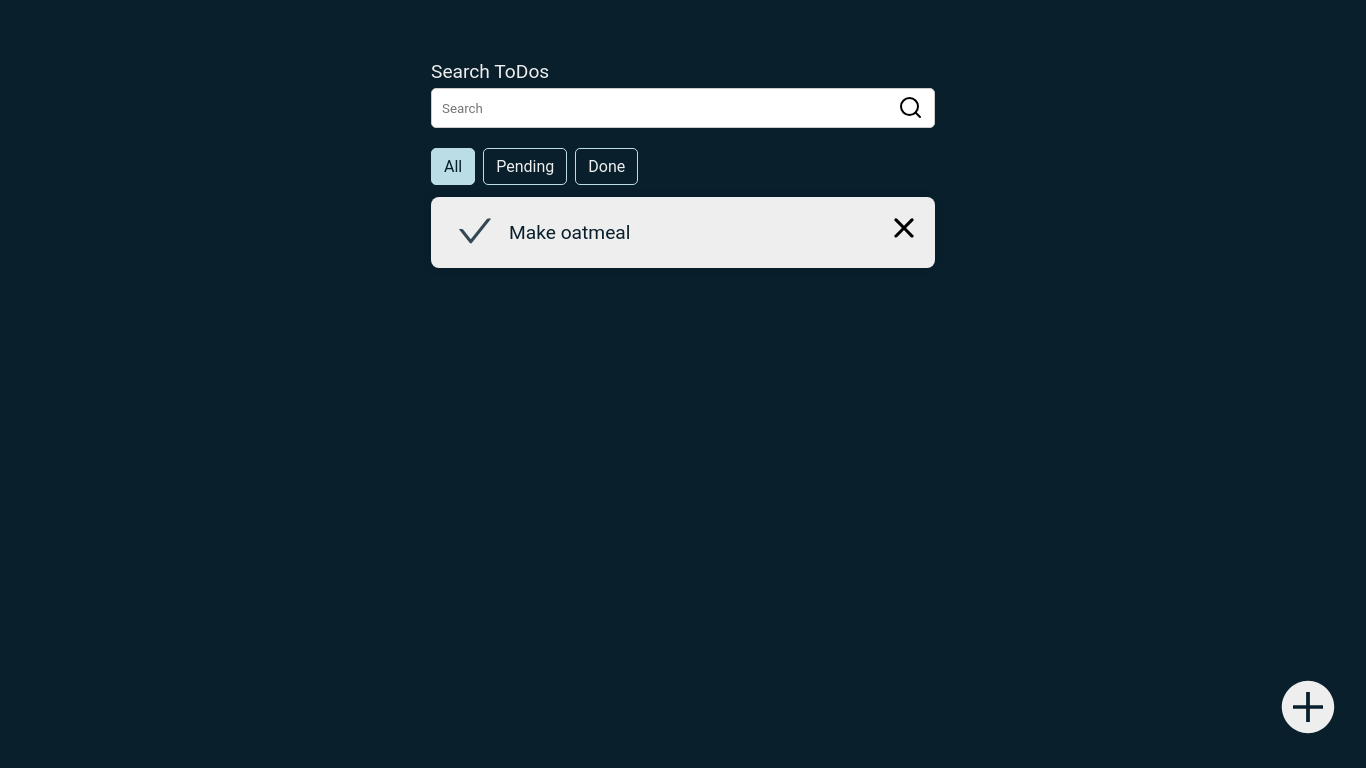
Test: App › allows a removal to be canceled or confirmed
Step 1. Click the button with class "remove-to-do-button" → (904, 230), box x1=889 y1=213 x2=919 y2=246
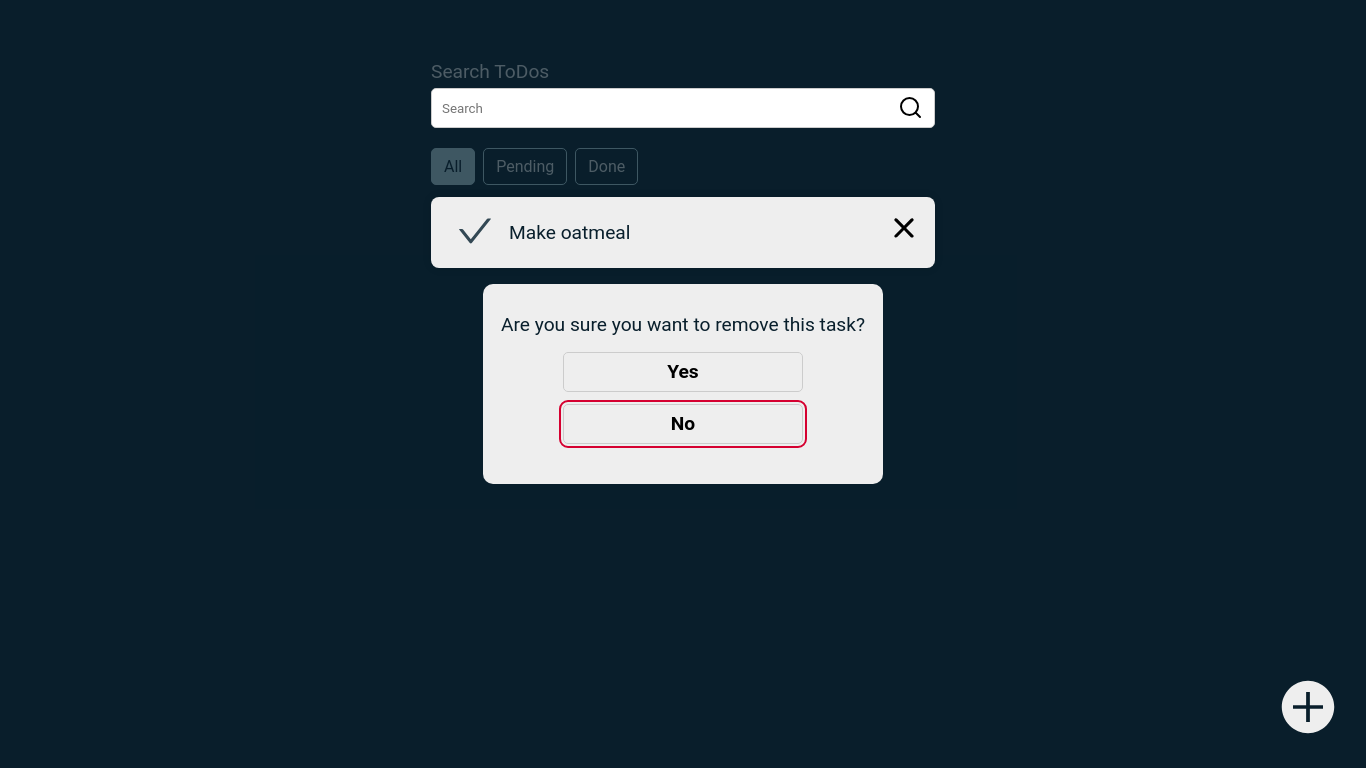
Check: the text "Are you sure you want to remove this task?" is shown, box x1=501 y1=312 x2=865 y2=336
Step 2. Click the button "No" → (683, 424), box x1=563 y1=404 x2=803 y2=444
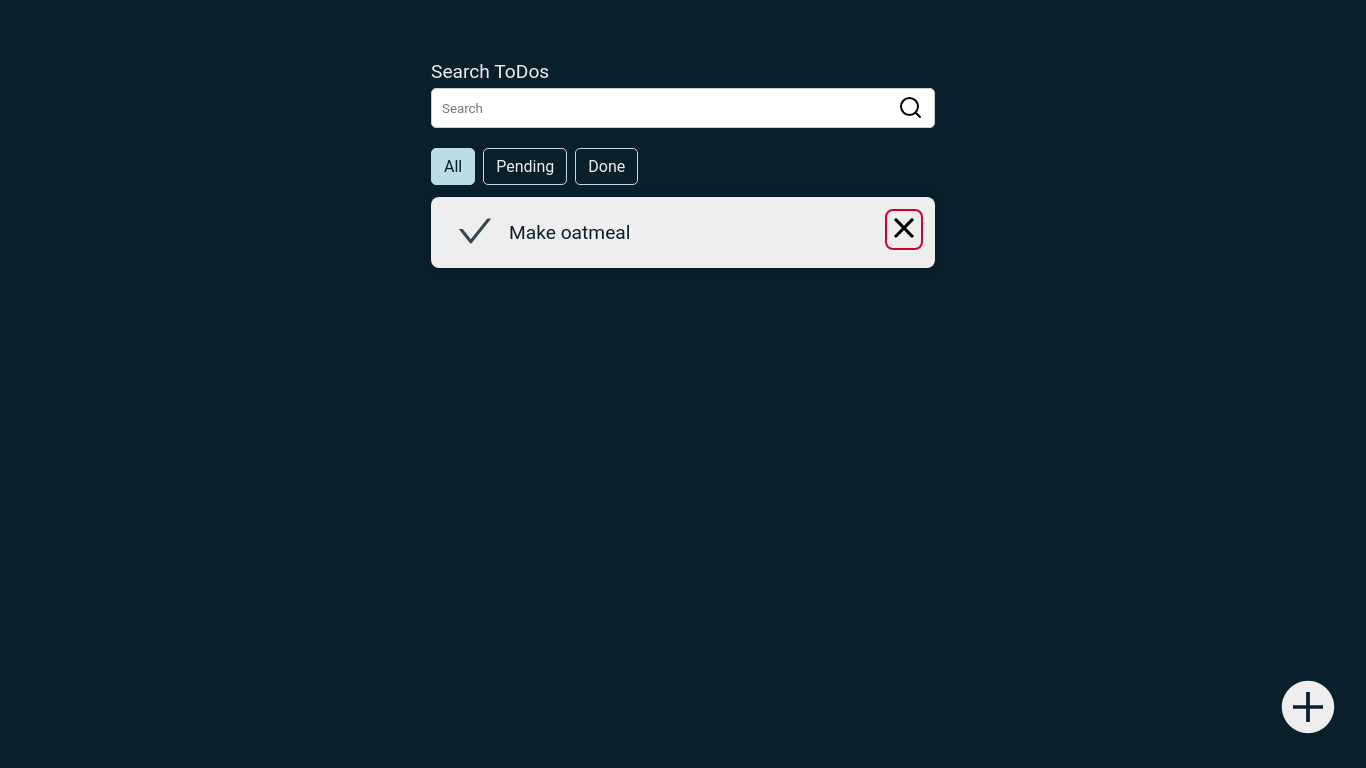
Check: the text "Make oatmeal" is shown, box x1=509 y1=221 x2=630 y2=244
Check: the text "Are you sure you want to remove this task?" is gone
Step 3. Click the button with class "remove-to-do-button" → (904, 230), box x1=889 y1=213 x2=919 y2=246
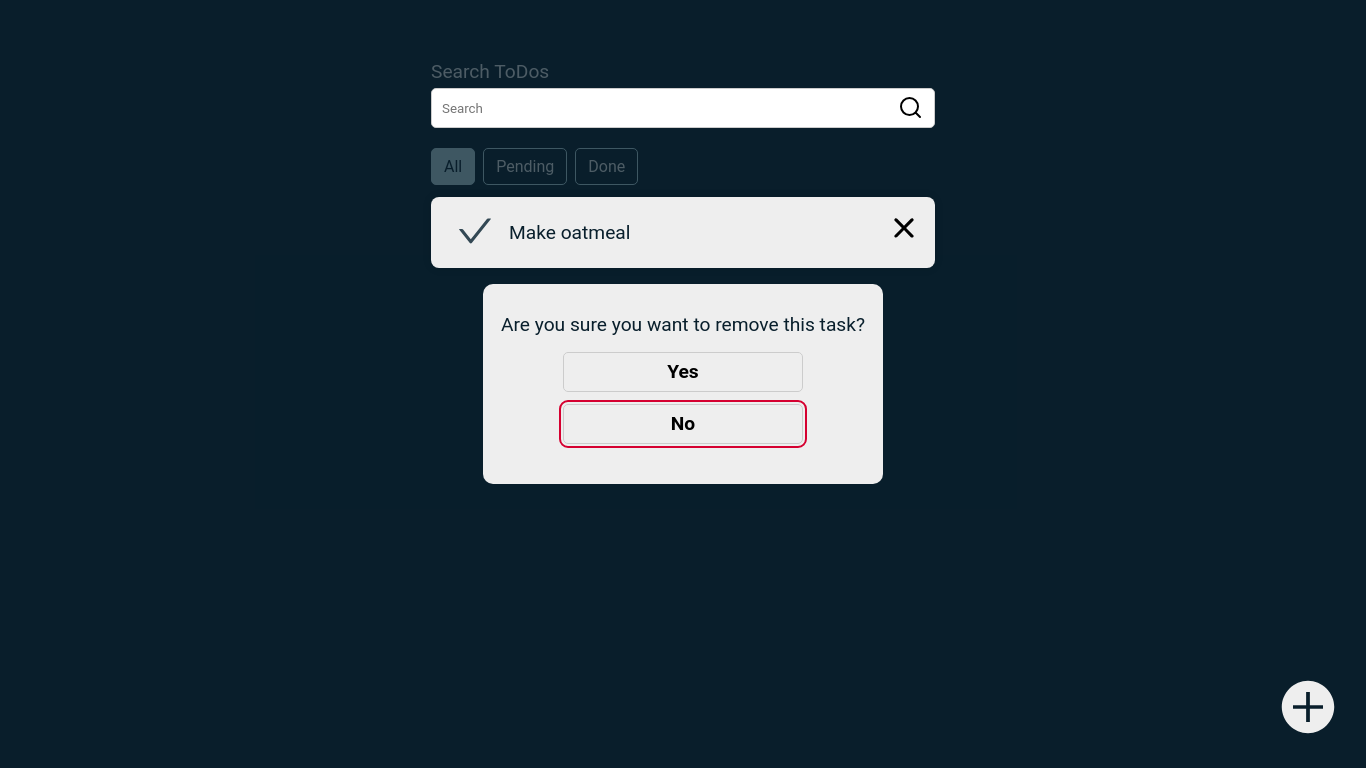
Step 4. Click the button "Yes" → (683, 372), box x1=563 y1=352 x2=803 y2=392
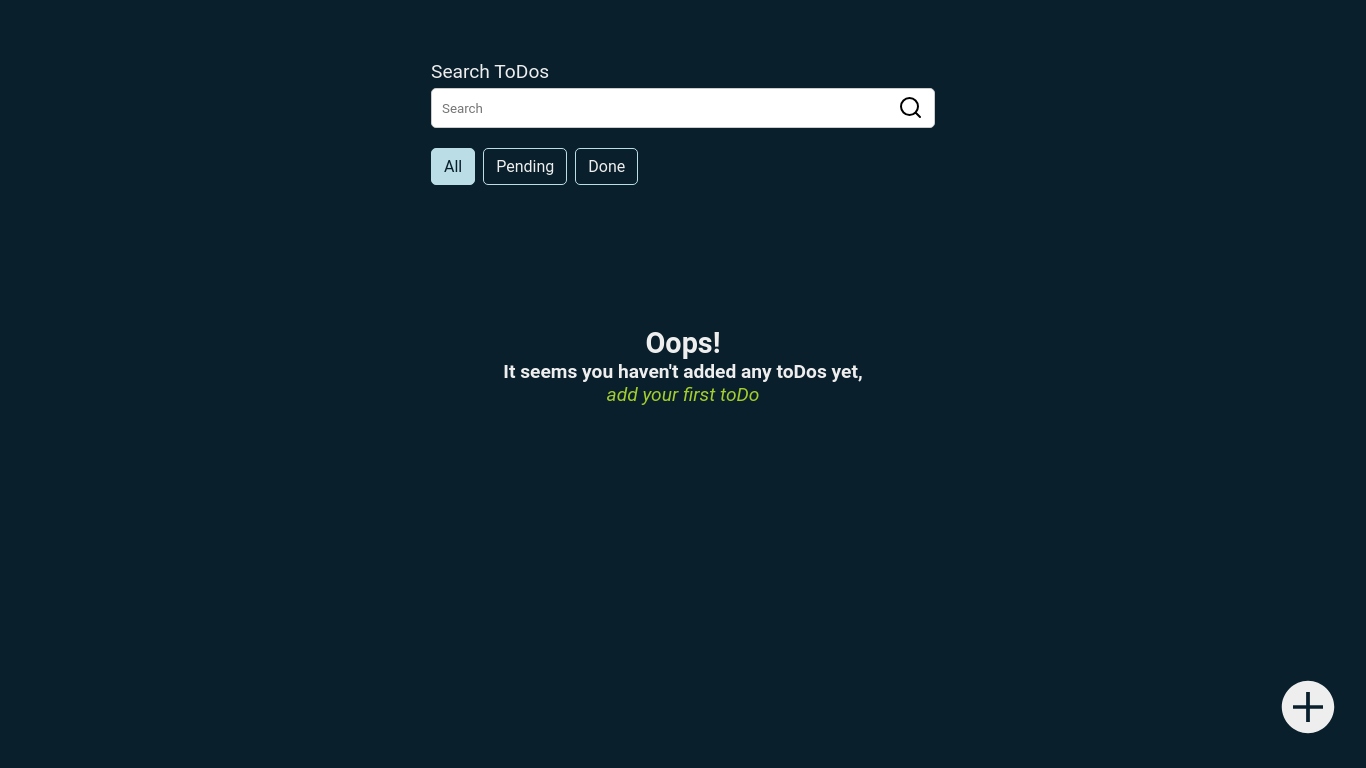
Check: the text "Make oatmeal" is gone
